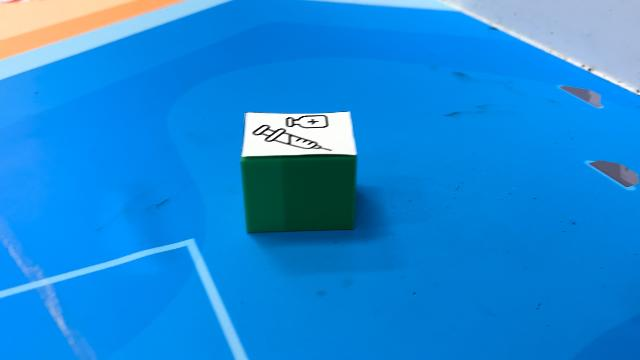syringe: (240, 111, 358, 233)
